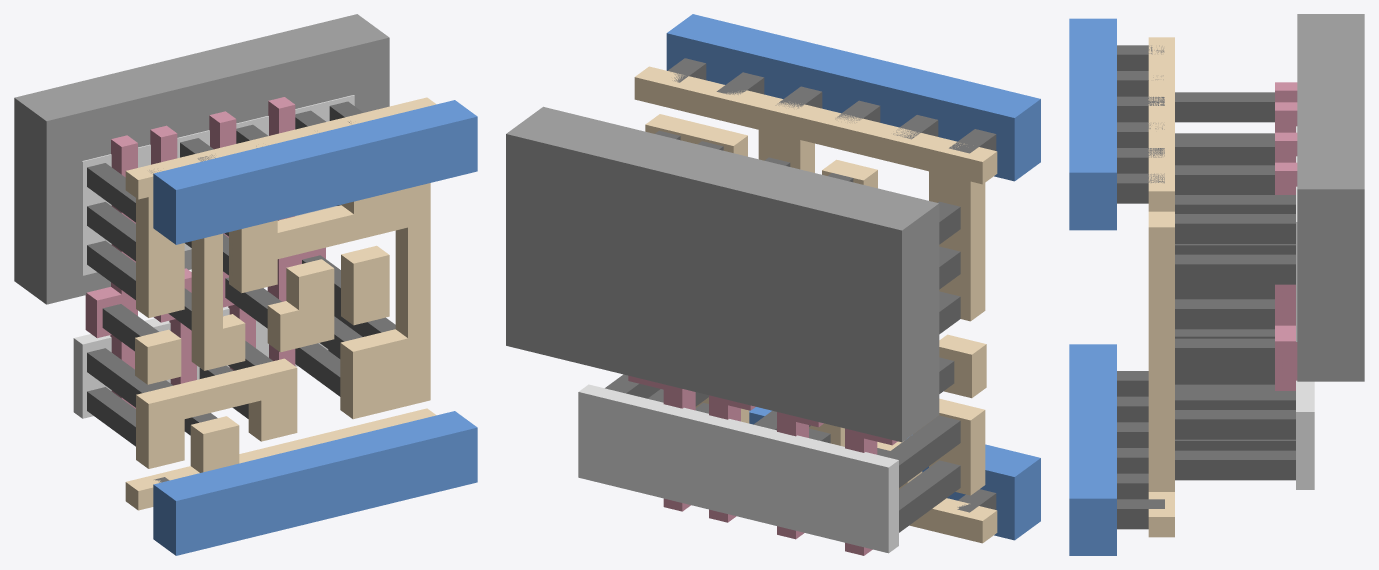
File: sky130_fd_sc_hd__o211ai_1.gds.gltf
3 views of the same model, side by side, from view 1: azimuth 30°, elevation 25°; view 2: azimuth 150°, elevation 25°; view 3: azimuth 270°, elevation 25° (orthographic). The views are drawn at different scales.
Parts seen in each view (by area): view 1: sky130_fd_sc_hd__o211ai_1_li1, sky130_fd_sc_hd__o211ai_1_met1, sky130_fd_sc_hd__o211ai_1_nwell, sky130_fd_sc_hd__o211ai_1_licon, sky130_fd_sc_hd__o211ai_1_poly, sky130_fd_sc_hd__o211ai_1_diff; view 2: sky130_fd_sc_hd__o211ai_1_nwell, sky130_fd_sc_hd__o211ai_1_diff, sky130_fd_sc_hd__o211ai_1_li1, sky130_fd_sc_hd__o211ai_1_met1, sky130_fd_sc_hd__o211ai_1_licon, sky130_fd_sc_hd__o211ai_1_mcon, sky130_fd_sc_hd__o211ai_1_poly; view 3: sky130_fd_sc_hd__o211ai_1_licon, sky130_fd_sc_hd__o211ai_1_nwell, sky130_fd_sc_hd__o211ai_1_met1, sky130_fd_sc_hd__o211ai_1_li1, sky130_fd_sc_hd__o211ai_1_mcon, sky130_fd_sc_hd__o211ai_1_poly, sky130_fd_sc_hd__o211ai_1_diff.
Part boxes in pixels (x1,y1,x2,y2): sky130_fd_sc_hd__o211ai_1_li1: [125, 97, 436, 510]; sky130_fd_sc_hd__o211ai_1_met1: [153, 100, 477, 555]; sky130_fd_sc_hd__o211ai_1_nwell: [14, 14, 389, 304]; sky130_fd_sc_hd__o211ai_1_licon: [87, 101, 395, 446]; sky130_fd_sc_hd__o211ai_1_poly: [85, 97, 325, 408]; sky130_fd_sc_hd__o211ai_1_diff: [73, 95, 354, 418]; sky130_fd_sc_hd__o211ai_1_nwell: [506, 106, 939, 442]; sky130_fd_sc_hd__o211ai_1_diff: [578, 384, 898, 553]; sky130_fd_sc_hd__o211ai_1_li1: [634, 66, 997, 543]; sky130_fd_sc_hd__o211ai_1_met1: [666, 14, 1040, 540]; sky130_fd_sc_hd__o211ai_1_licon: [605, 130, 960, 532]; sky130_fd_sc_hd__o211ai_1_mcon: [668, 58, 996, 512]; sky130_fd_sc_hd__o211ai_1_poly: [628, 375, 897, 555]; sky130_fd_sc_hd__o211ai_1_licon: [1175, 92, 1295, 480]; sky130_fd_sc_hd__o211ai_1_nwell: [1297, 14, 1364, 381]; sky130_fd_sc_hd__o211ai_1_met1: [1069, 18, 1116, 555]; sky130_fd_sc_hd__o211ai_1_li1: [1148, 37, 1174, 537]; sky130_fd_sc_hd__o211ai_1_mcon: [1117, 45, 1164, 529]; sky130_fd_sc_hd__o211ai_1_poly: [1275, 82, 1297, 390]; sky130_fd_sc_hd__o211ai_1_diff: [1296, 126, 1314, 489].
Bounding box in the file's own units: 3.14 × 3.2 × 2.24.
